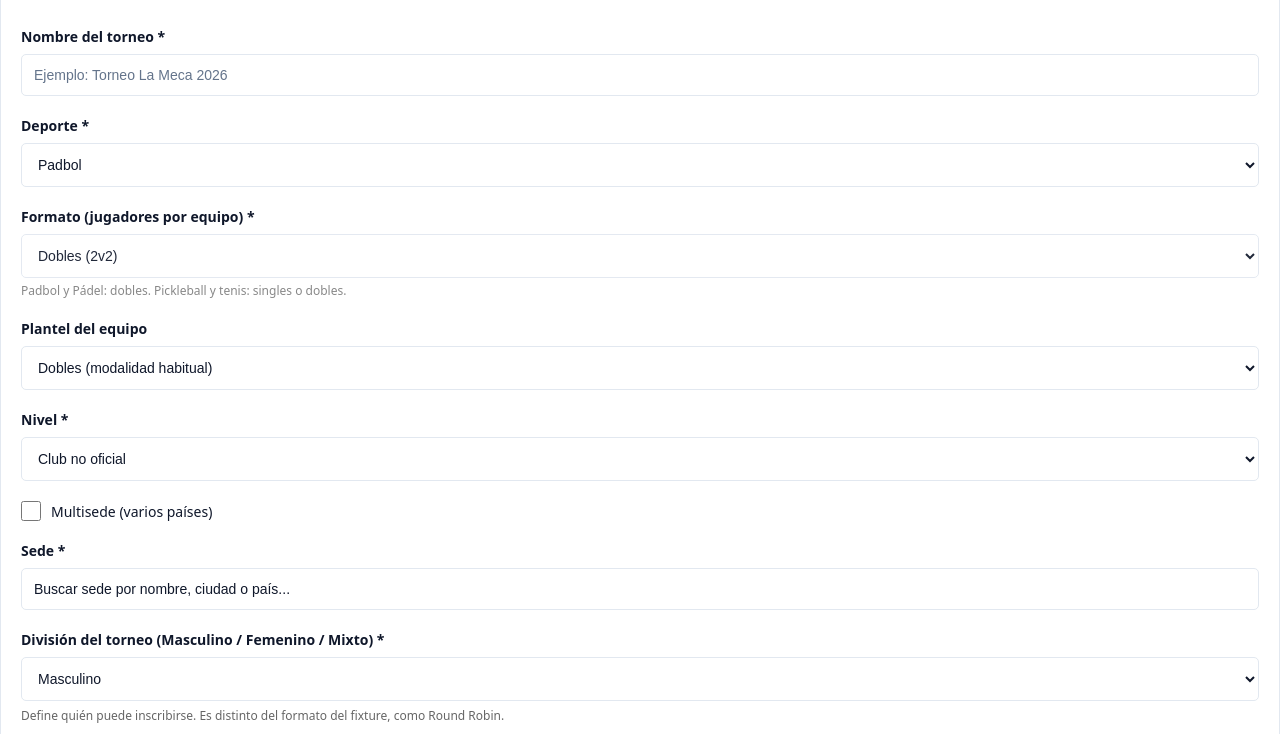
it: create uses server labels/hidden levels and read-only base without a points_total input
Step 1. Select "Internacional guardado" in the 3rd dropdown named "nivel_torneo" → {"x": 640, "y": 459}, box [21,437,1259,481]
(page scrolled)
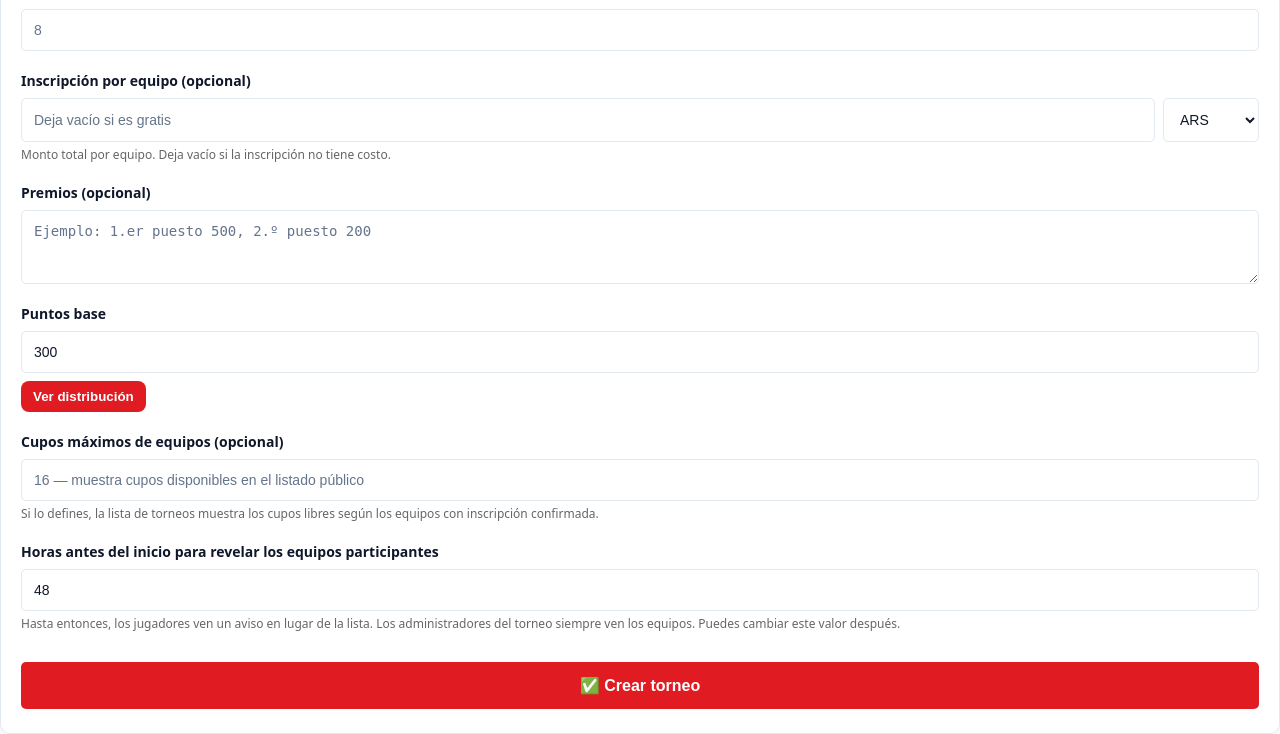
Expected: the field named "Puntos base" holds "300", [21,331,1259,373]
